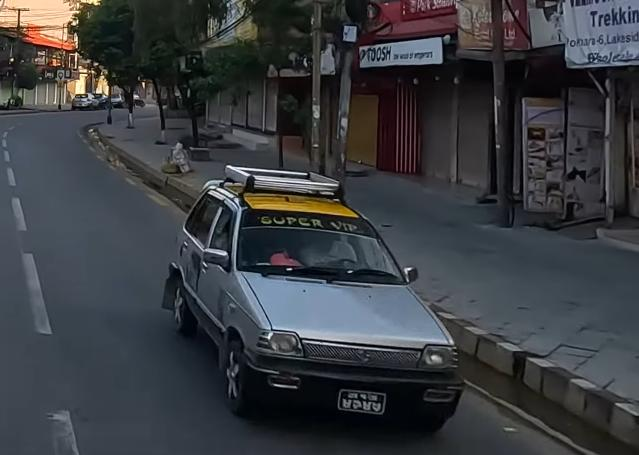taxi: (166, 160, 472, 441)
